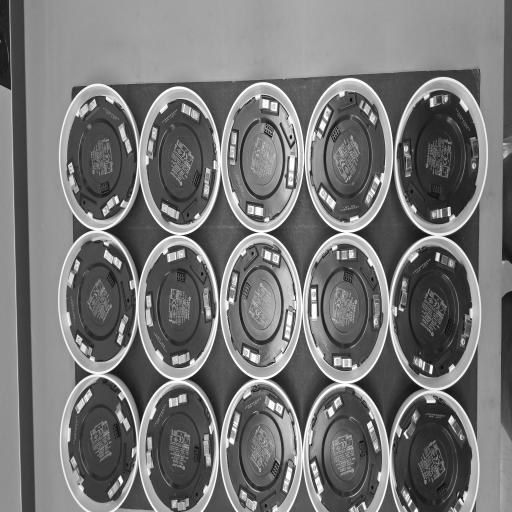yayli: (314, 105, 333, 141), (447, 414, 467, 448), (358, 98, 378, 129), (364, 174, 381, 208), (403, 408, 421, 440), (309, 457, 324, 495), (116, 401, 132, 434), (323, 394, 343, 420), (282, 306, 296, 343), (400, 485, 419, 512), (317, 184, 335, 212), (459, 313, 472, 350), (100, 194, 120, 218), (264, 394, 284, 418), (238, 488, 258, 512), (118, 122, 132, 155), (70, 455, 84, 488), (398, 276, 410, 314), (367, 420, 380, 455), (228, 411, 241, 446), (67, 257, 81, 289), (146, 127, 159, 161), (75, 388, 92, 414), (107, 473, 124, 499), (434, 251, 456, 271), (241, 344, 261, 366), (412, 355, 434, 375), (103, 248, 122, 271), (282, 459, 294, 495), (67, 161, 80, 194), (75, 332, 92, 357), (261, 246, 282, 266), (78, 98, 97, 120), (181, 102, 200, 124), (202, 167, 214, 201), (116, 314, 129, 345), (259, 96, 278, 115), (428, 93, 450, 109), (430, 206, 452, 222), (228, 130, 238, 165), (286, 155, 296, 190), (160, 202, 178, 221), (372, 294, 381, 332), (202, 288, 212, 322), (448, 492, 465, 512), (470, 137, 479, 174), (228, 273, 238, 306), (246, 202, 264, 220), (403, 142, 412, 178), (166, 247, 186, 263), (332, 354, 352, 370), (145, 293, 154, 327), (169, 392, 188, 408), (171, 351, 190, 367), (349, 496, 368, 512), (170, 496, 190, 511), (338, 246, 356, 262), (203, 434, 212, 466), (146, 436, 154, 472), (310, 288, 317, 322)
